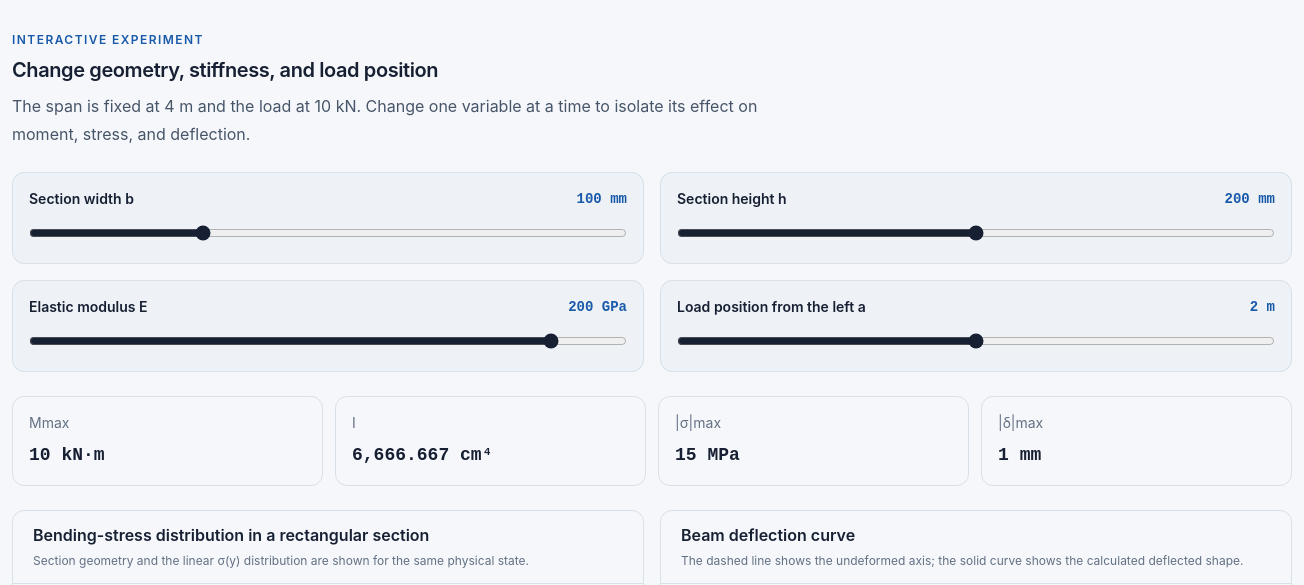
BendingInteractiveExplorer › changes only deflection when elastic modulus changes
This screenshot has width=1304, height=585.
Set the slider labelled "Elastic modulus E" to "100" at {"x": 208, "y": 341}, box left=29, top=333, right=627, bottom=349
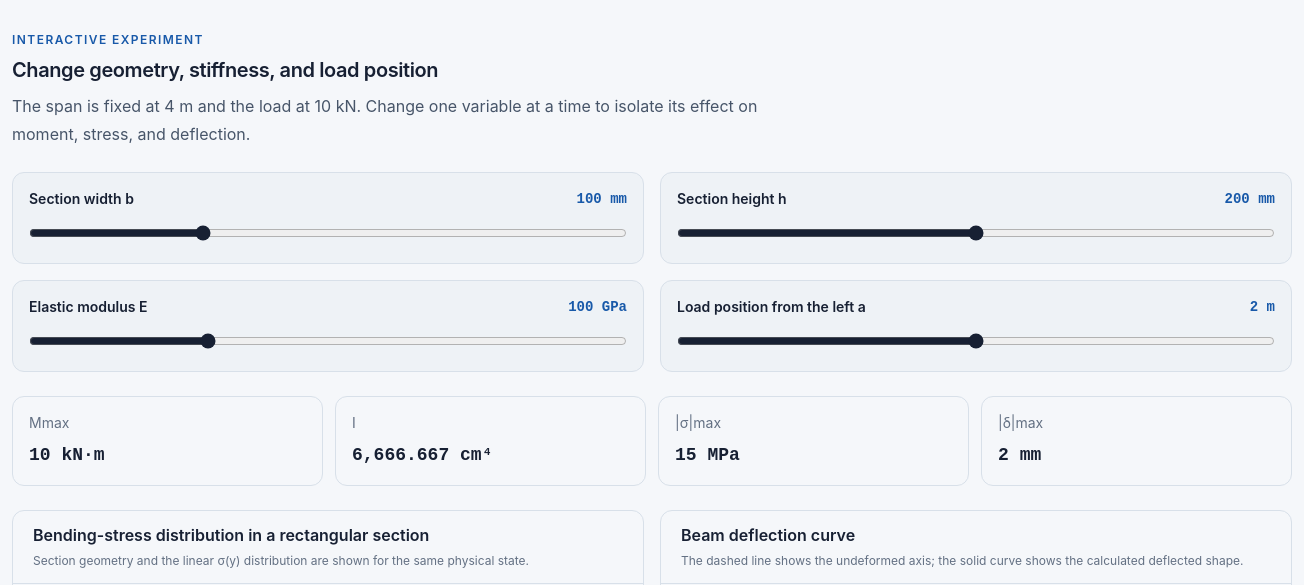
expect the text with test id "bending-interactive-moment" reads "10 kN·m": met, box left=29, top=445, right=105, bottom=465
expect the text with test id "bending-interactive-deflection" reads "2 mm": met, box left=998, top=445, right=1041, bottom=465
